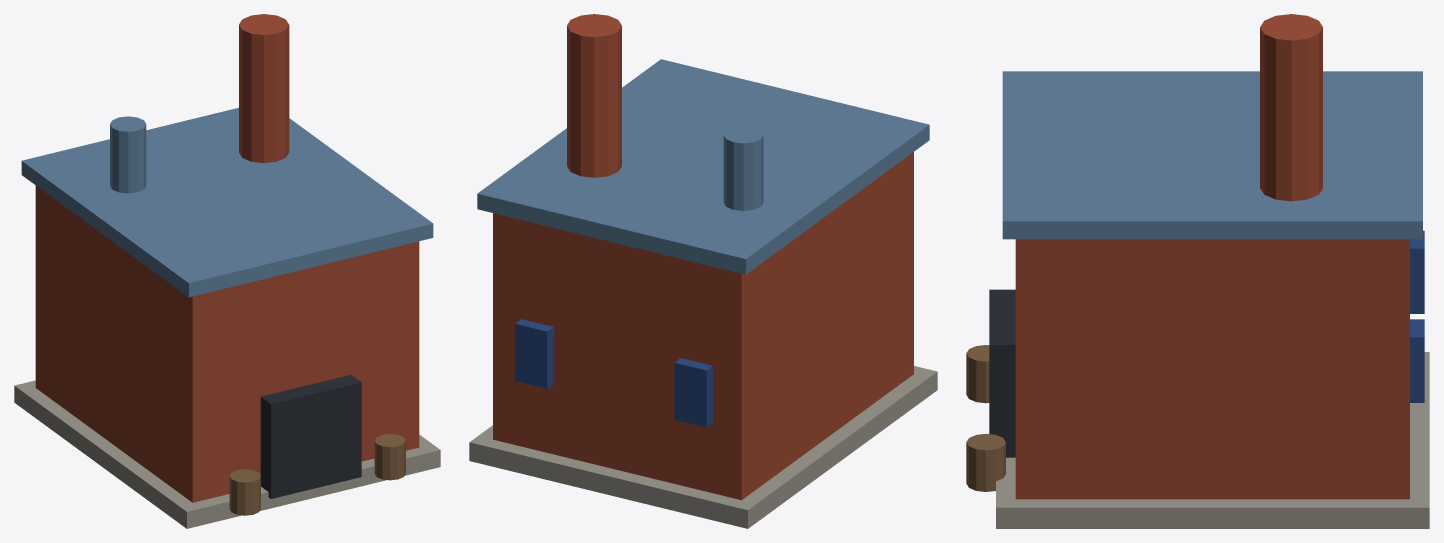
File: bld_industrial_a04_lod1.glb
3 views of the same model, side by side, from view 1: azimuth 30°, elevation 25°; view 2: azimuth 150°, elevation 25°; view 3: azimuth 270°, elevation 25° (orthographic). The views are drawn at different scales.
Parts seen in each view (by area): view 1: body; view 2: body; view 3: body.
Part boxes in pixels (x1,y1,x2,y2): body: (14,14,440,528); body: (469,14,937,528); body: (966,14,1429,528).
Bounding box in the file's own units: 5.6 × 7.82 × 7.05.
